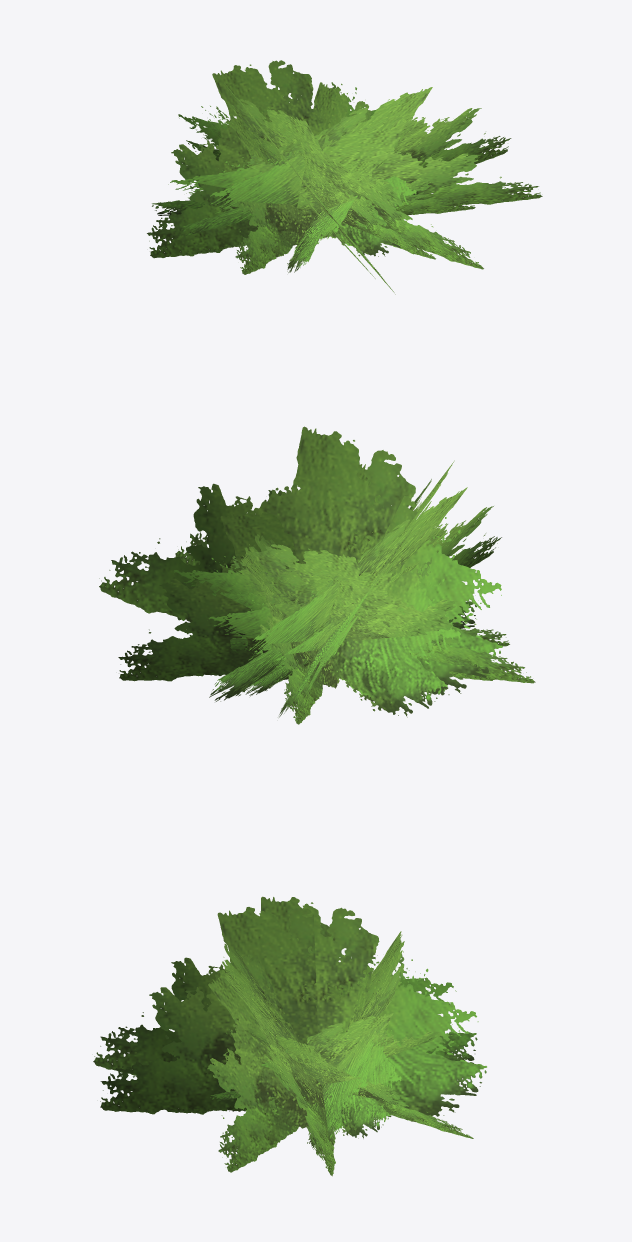
File: Mousse01_TransferedNormals.fbx
The picture shows the model from 3 angles, top to bottom: view 1: azimuth 30°, elevation 25°; view 2: azimuth 150°, elevation 25°; view 3: azimuth 270°, elevation 25°; orthographic projection. The views are drawn at different scales.
Visible parts, largest first — view 1: Mousse01_TransferedNormals; view 2: Mousse01_TransferedNormals; view 3: Mousse01_TransferedNormals.
Boxes of the visible parts, x1=… form: Mousse01_TransferedNormals: x1=147, y1=60, x2=542, y2=294; Mousse01_TransferedNormals: x1=99, y1=426, x2=535, y2=724; Mousse01_TransferedNormals: x1=93, y1=896, x2=486, y2=1176.
Bounding box in the file's own units: 1.04 × 0.4021 × 1.03.
